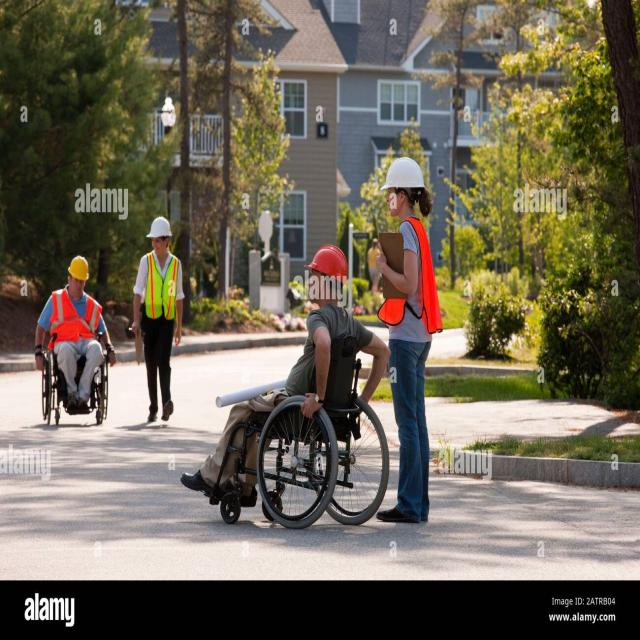wheelchairs: (207, 351, 390, 535), (32, 328, 118, 427)
